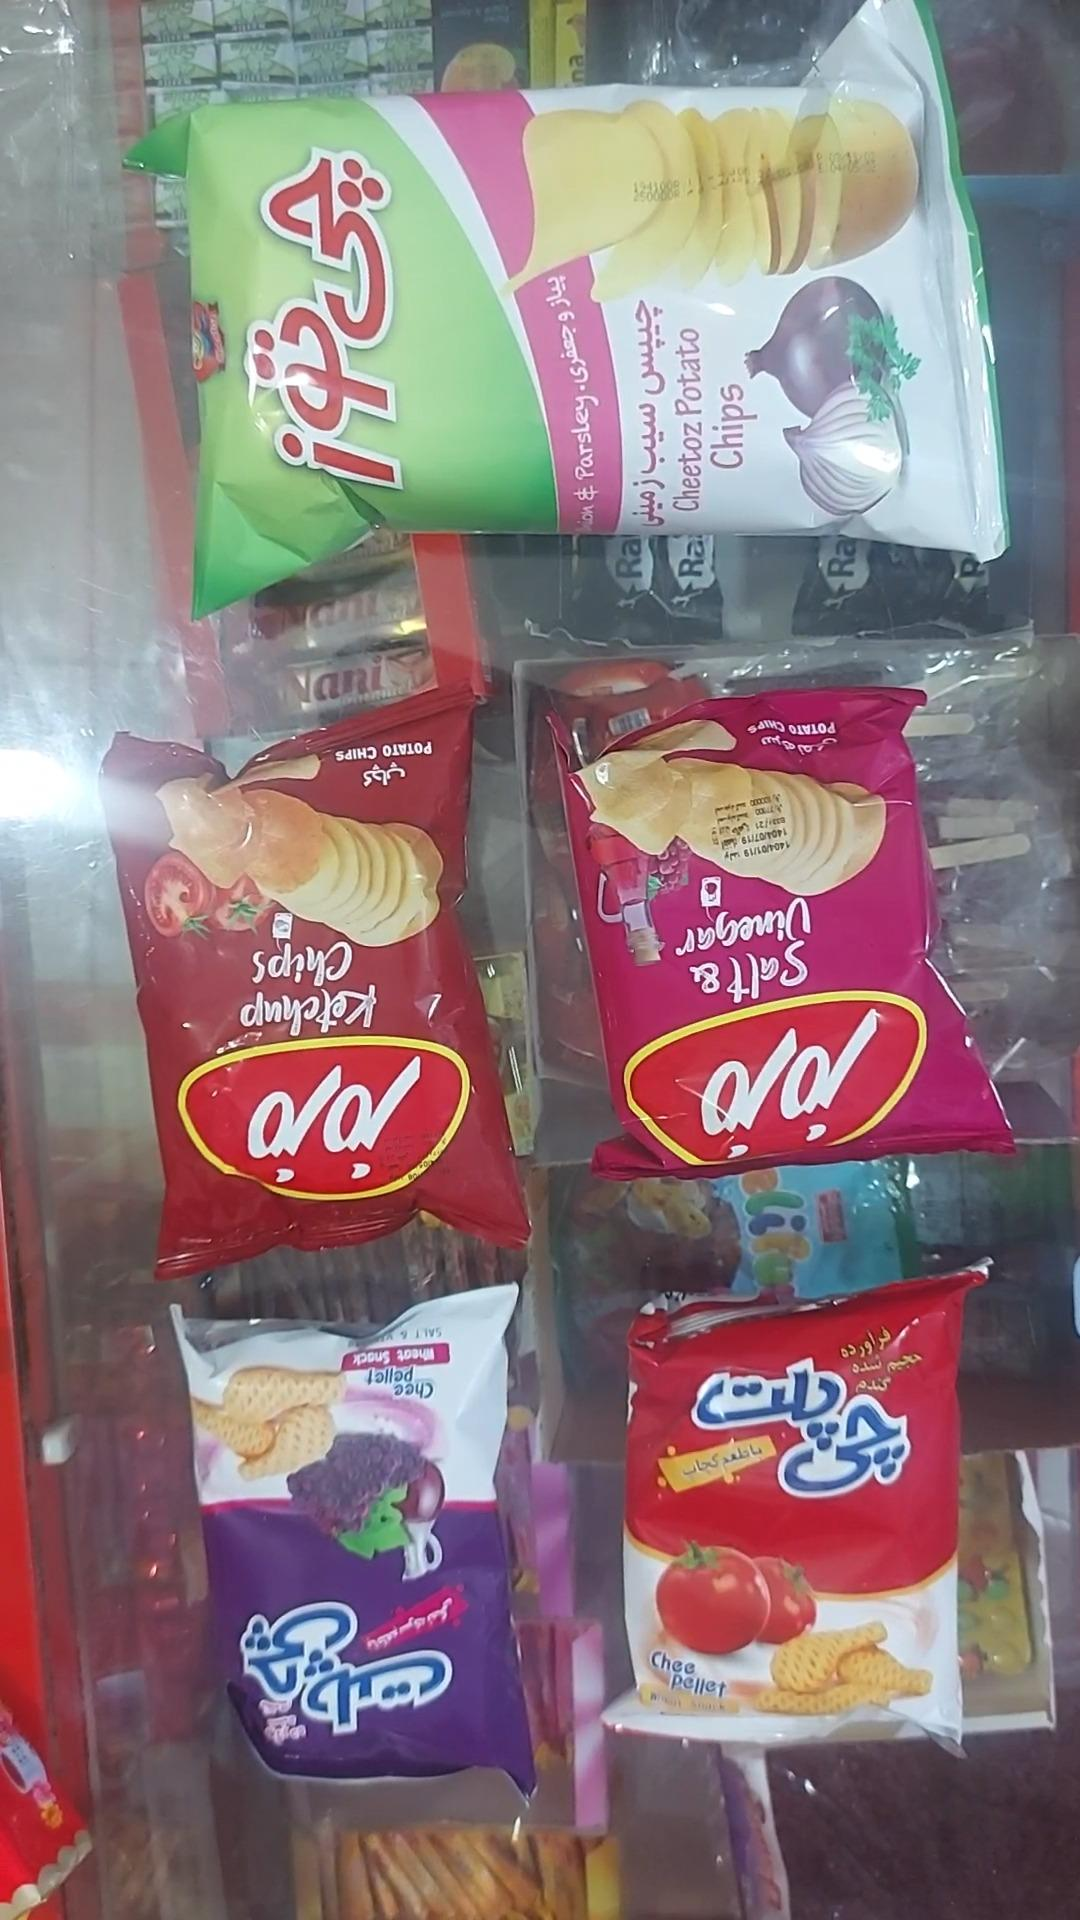Chee pellet ketchup: (608, 1267, 978, 1749)
Chee pellet vinegar: (173, 1286, 535, 1799)
Cheetoz onion and parsley chips: (129, 0, 1006, 615)
Maz Maz ketchup chips: (102, 687, 529, 1278)
Maz Maz vinegar chips: (549, 687, 1011, 1179)
Minoo cream biscuit: (0, 1696, 90, 1919)
